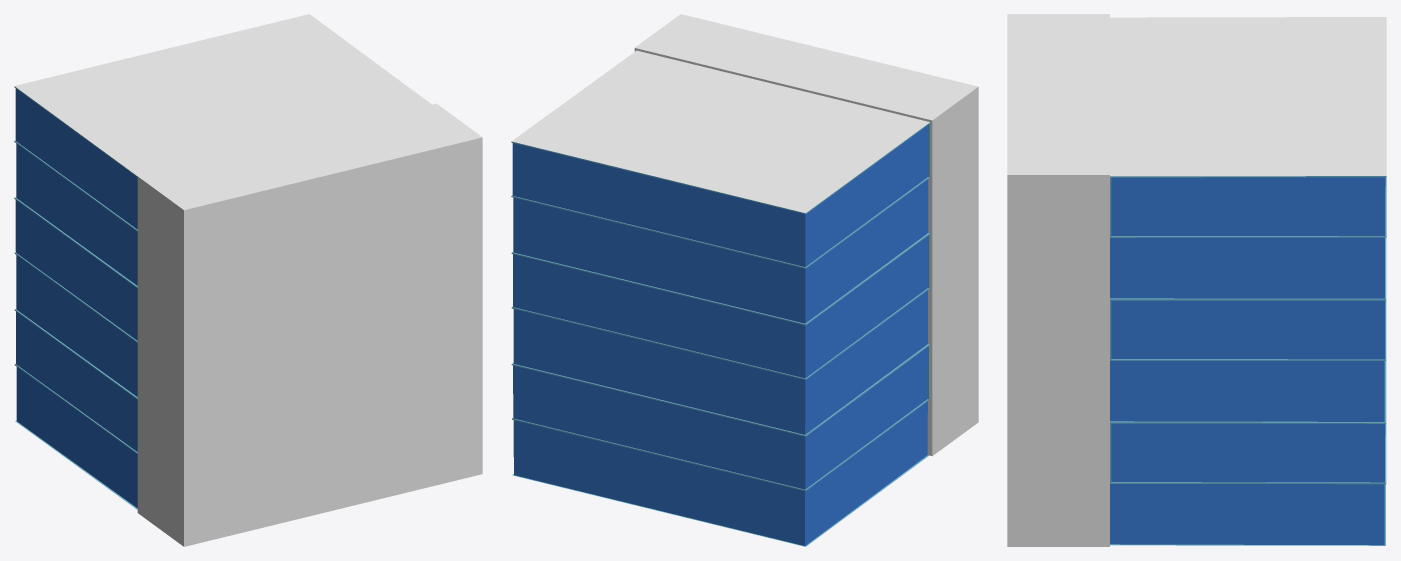
Rendered from building_1x1_12_f.glb.
The picture shows the model from 3 angles, left to right: view 1: azimuth 30°, elevation 25°; view 2: azimuth 150°, elevation 25°; view 3: azimuth 270°, elevation 25°; orthographic projection. The views are drawn at different scales.
Parts seen in each view (by area): view 1: SecondFloor; view 2: SecondFloor; view 3: SecondFloor.
Boxes of the visible parts, box(x1,y1,x2,y2) form: SecondFloor: box(14, 14, 482, 546); SecondFloor: box(511, 14, 978, 546); SecondFloor: box(1007, 14, 1386, 546).
Size of the model in its own units: 1.5 by 1.62 by 1.5.
